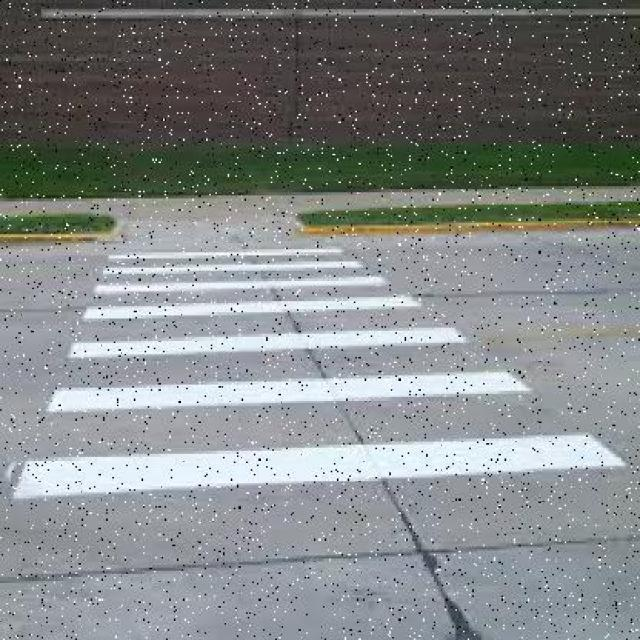crosswalk: (12, 242, 635, 503)
